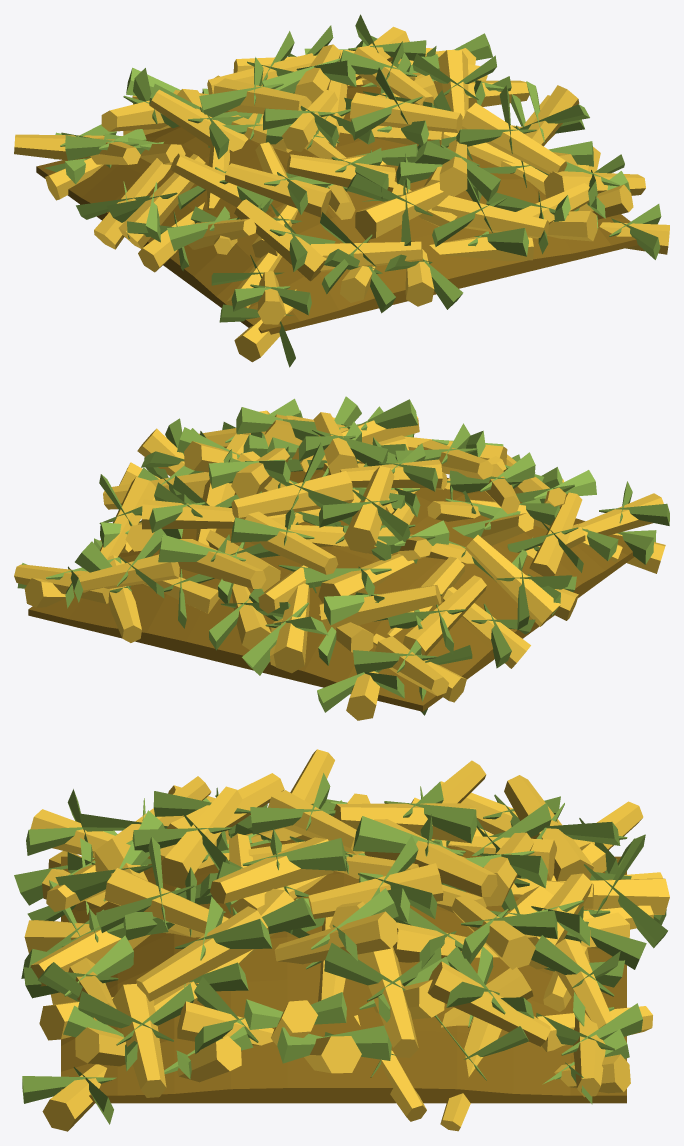
File: Pile_Corn.fbx
3 renders of one model, top to bottom at view 1: azimuth 30°, elevation 25°; view 2: azimuth 150°, elevation 25°; view 3: azimuth 270°, elevation 25°, orthographic. The views are drawn at different scales.
Parts seen in each view (by area): view 1: Pile_Corn; view 2: Pile_Corn; view 3: Pile_Corn.
Part boxes in pixels (bbox=[...]): Pile_Corn: bbox=[14, 14, 669, 367]; Pile_Corn: bbox=[14, 396, 669, 720]; Pile_Corn: bbox=[14, 749, 669, 1131].
Size of the model in its own units: 1.14 by 0.403 by 1.16.
